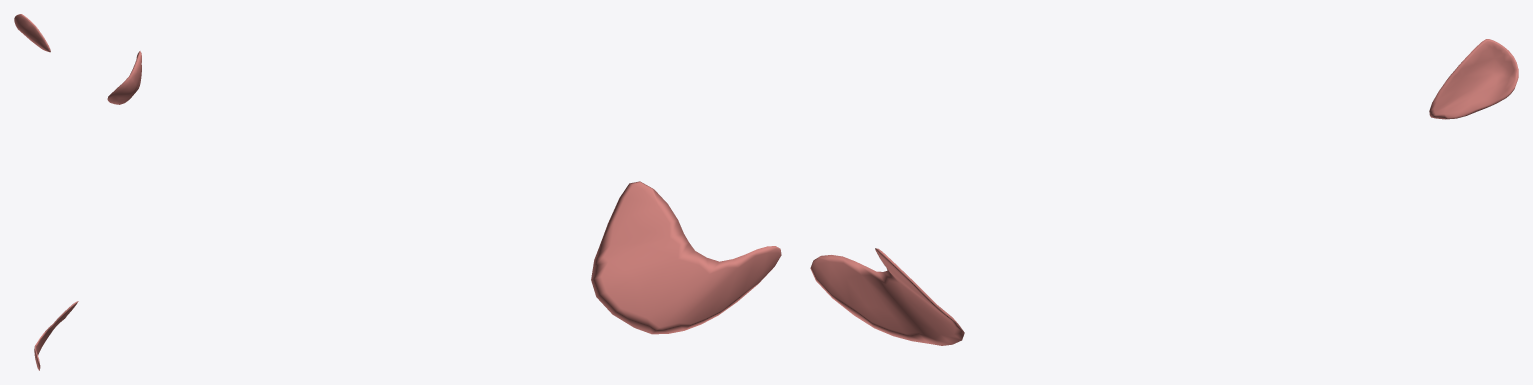
3 views of the same model, side by side, from view 1: azimuth 30°, elevation 25°; view 2: azimuth 150°, elevation 25°; view 3: azimuth 270°, elevation 25° (orthographic). The views are drawn at different scales.
Visible parts, largest first — view 1: ZA_34628f0d925c71c5; view 2: ZA_34628f0d925c71c5; view 3: ZA_34628f0d925c71c5.
Boxes of the visible parts, x1,y1,x2,y2 form: ZA_34628f0d925c71c5: (14, 14, 78, 370); ZA_34628f0d925c71c5: (107, 51, 781, 334); ZA_34628f0d925c71c5: (810, 39, 1518, 345).
Bounding box in the file's own units: 0.0397 × 0.0485 × 0.0728.
